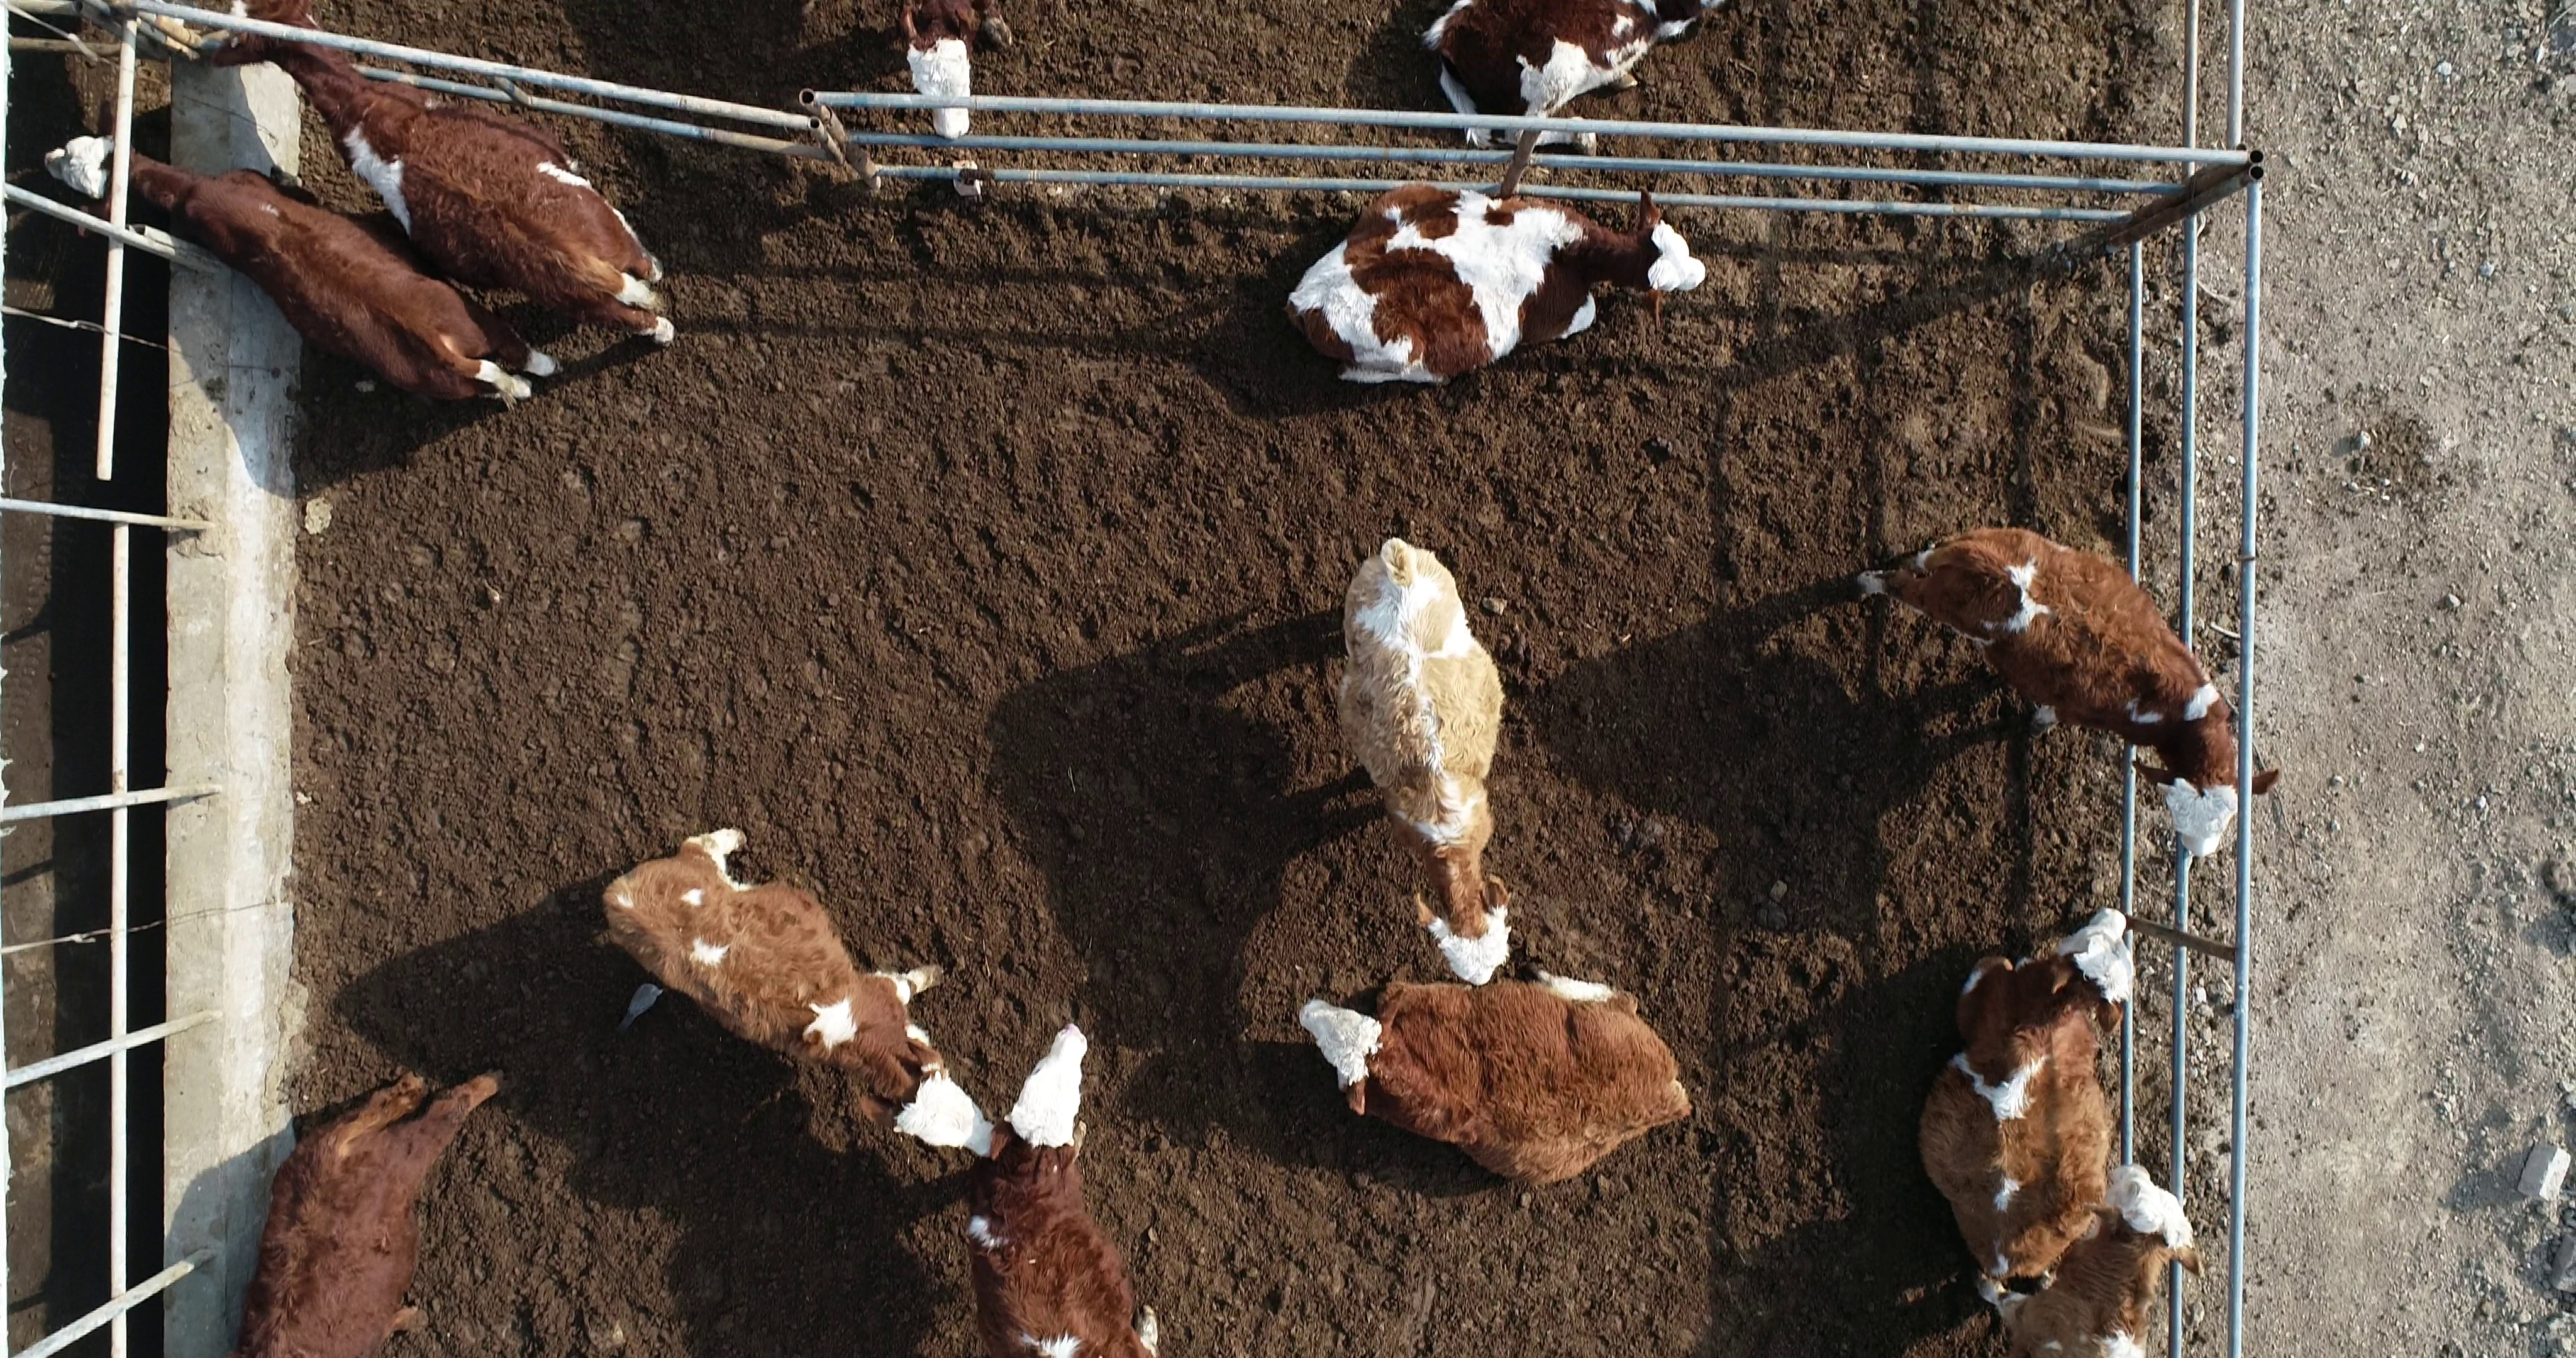cattle: (210, 2, 683, 353), (41, 124, 559, 416), (1849, 525, 2286, 864), (593, 820, 1000, 1167), (1274, 174, 1709, 390), (1293, 964, 1699, 1189), (1908, 905, 2145, 1288), (1332, 535, 1520, 988)
